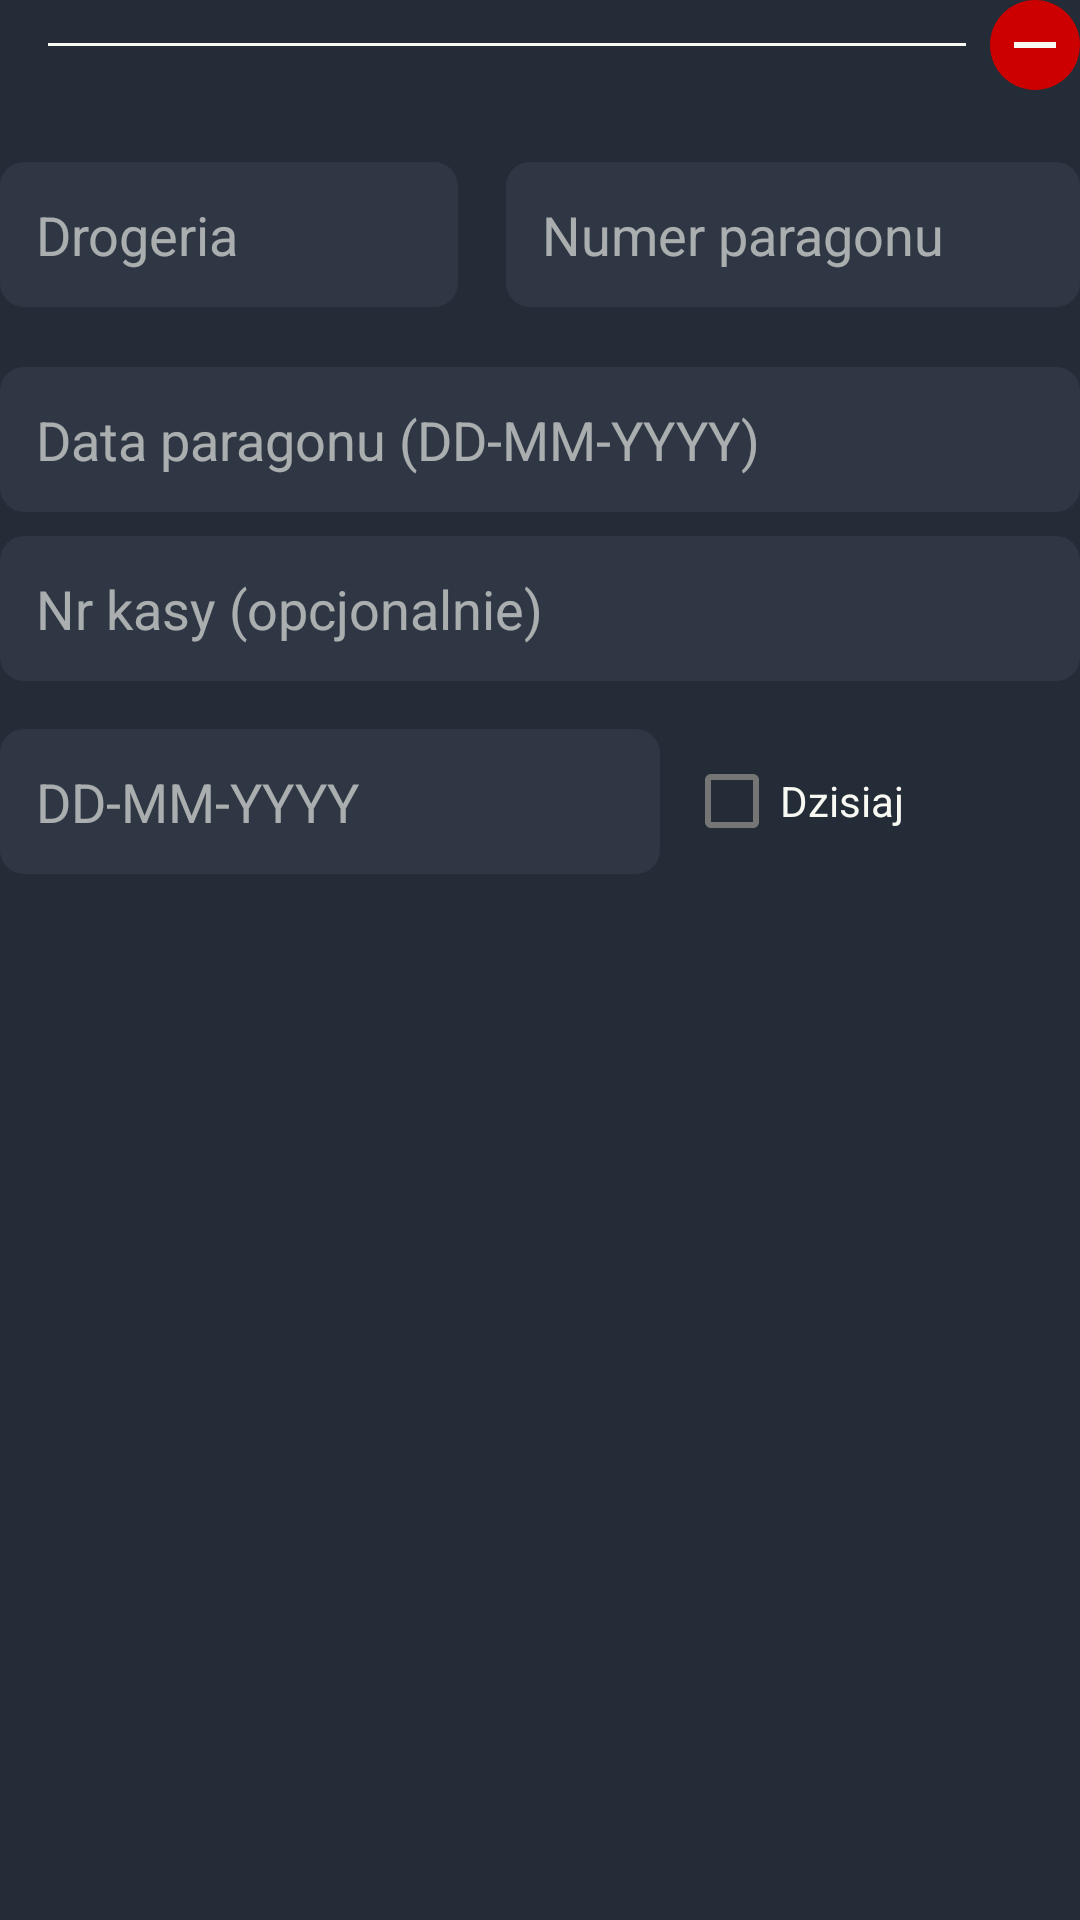

Icon bounding boxes for this 1080px x 1920px phone screenshot, format (x1, y1, x2, y2):
Usuń ten paragon: (990, 0, 1080, 90)
